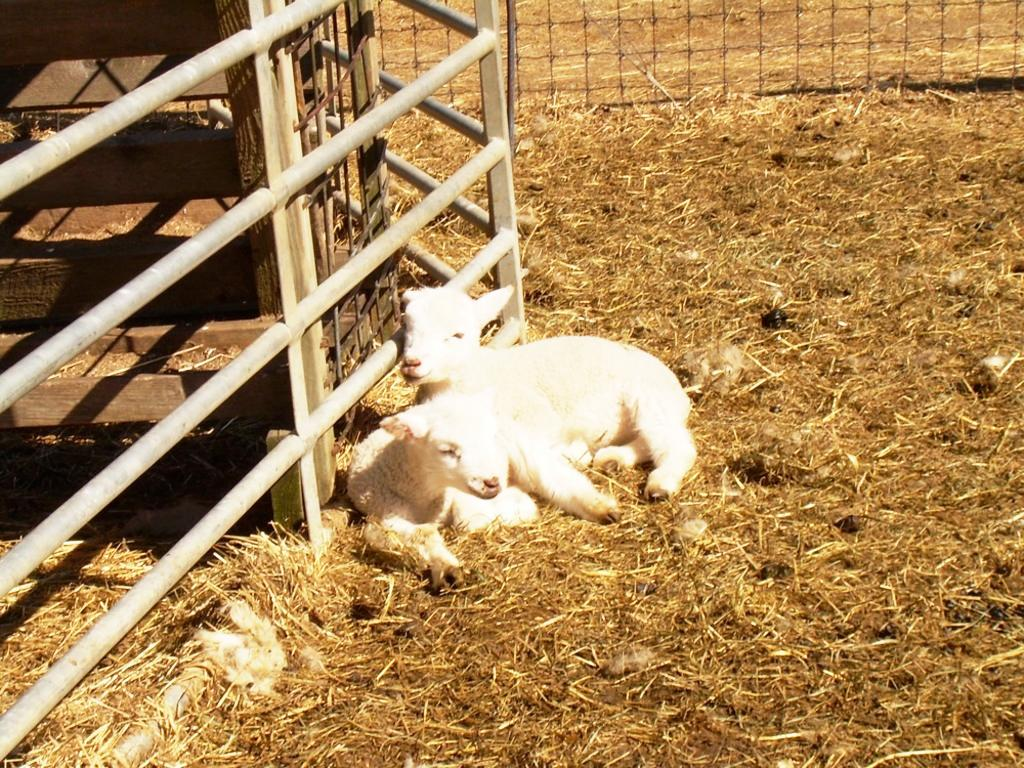Sheep: (400, 285, 699, 504), (348, 386, 624, 593)
